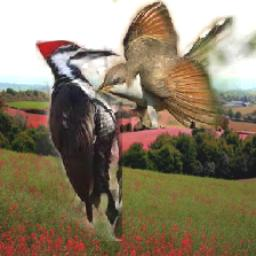Cuckoo: (95, 0, 256, 129)
Woodpecker: (35, 41, 122, 242)
